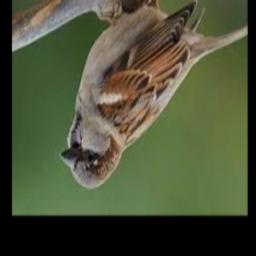Sparrow: (60, 0, 248, 189)
